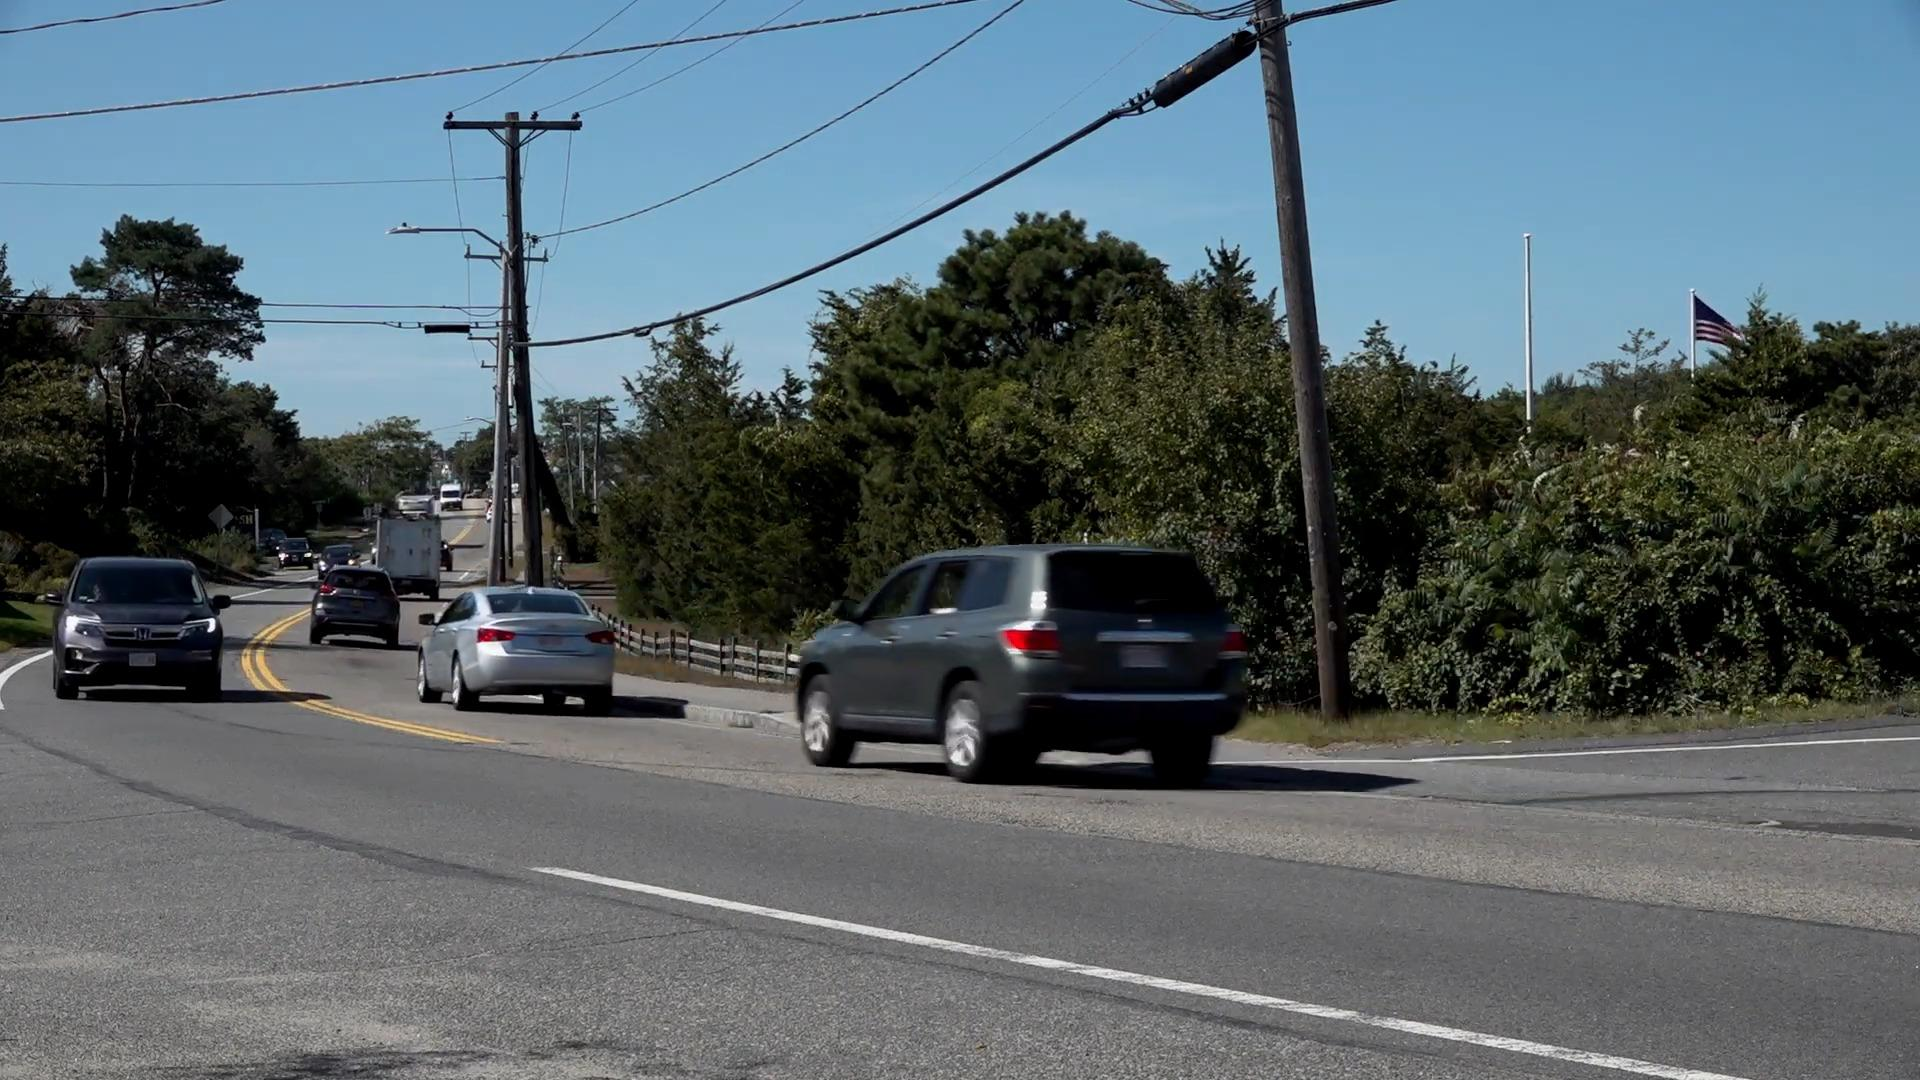sedans: (413, 583, 613, 715)
suv: (793, 542, 1247, 783), (47, 557, 232, 703), (313, 565, 397, 648)
truck: (375, 512, 447, 597)
